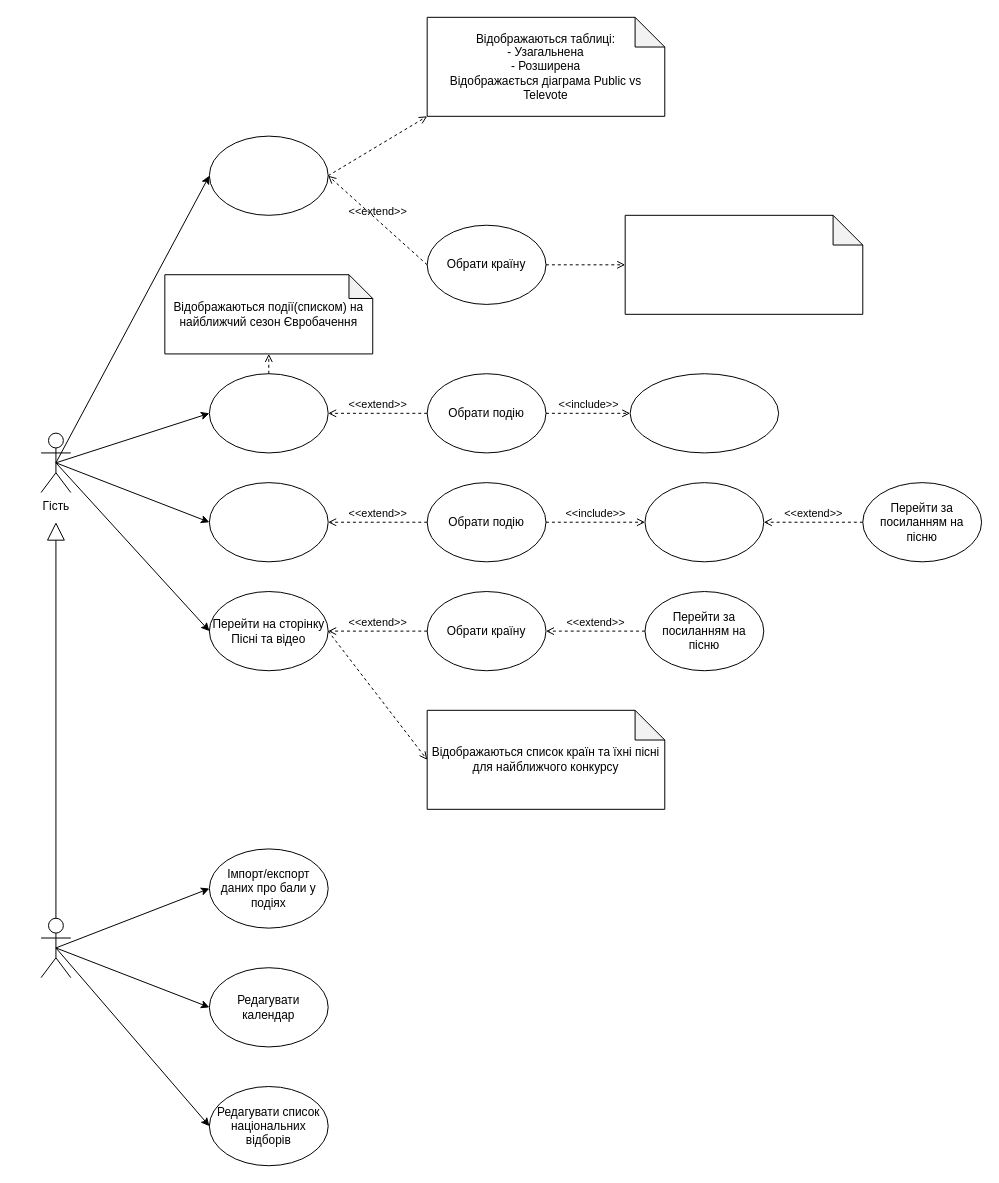
This 999x1183 diagram has some shape labels left out. The box of each missing label's shape, as (x1, y1, x2, y2) in pixels:
Адміністратор: (40, 917, 71, 978)
Відображаються діаграма з розподілом балів для конкретної країни: (624, 214, 863, 314)
Перейти на сторінку з описом події: (629, 373, 779, 453)
Перейти на сторінку зі списоком учасників: (644, 482, 764, 562)
Перейти на сторінку Календар: (208, 373, 328, 453)
Перейти на сторінку Національні відбори: (208, 482, 328, 562)
Перейти на сторінку Результати і бали: (208, 135, 328, 215)
